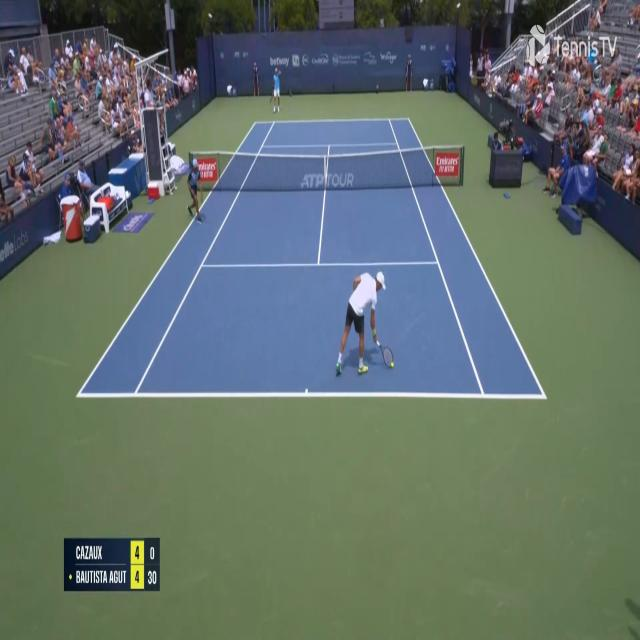tennis-player: (331, 268, 395, 383), (269, 66, 282, 114)
